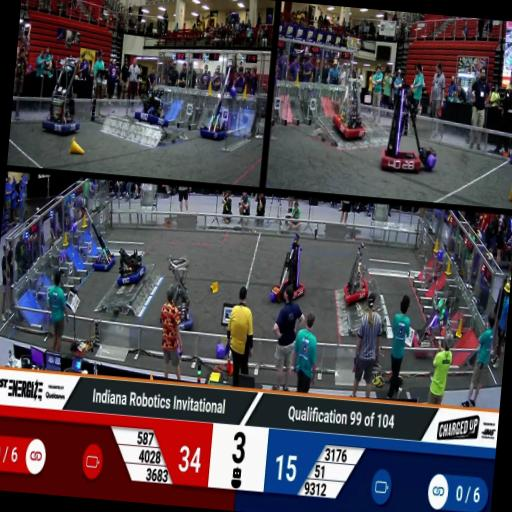robot: (379, 78, 447, 178), (42, 54, 89, 139), (268, 230, 313, 304), (330, 65, 372, 141), (160, 254, 200, 330), (78, 202, 120, 274), (200, 62, 236, 143), (409, 300, 450, 358), (342, 242, 374, 304), (133, 84, 172, 130), (114, 250, 150, 288)
